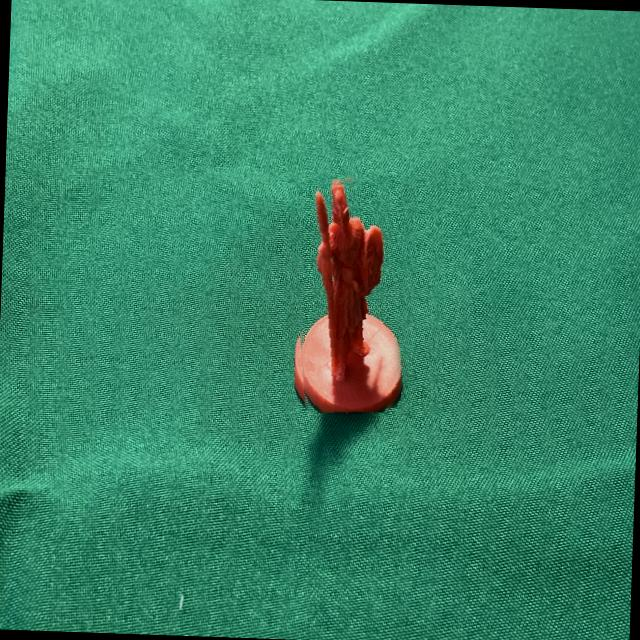amon_follower: (300, 178, 402, 413)
